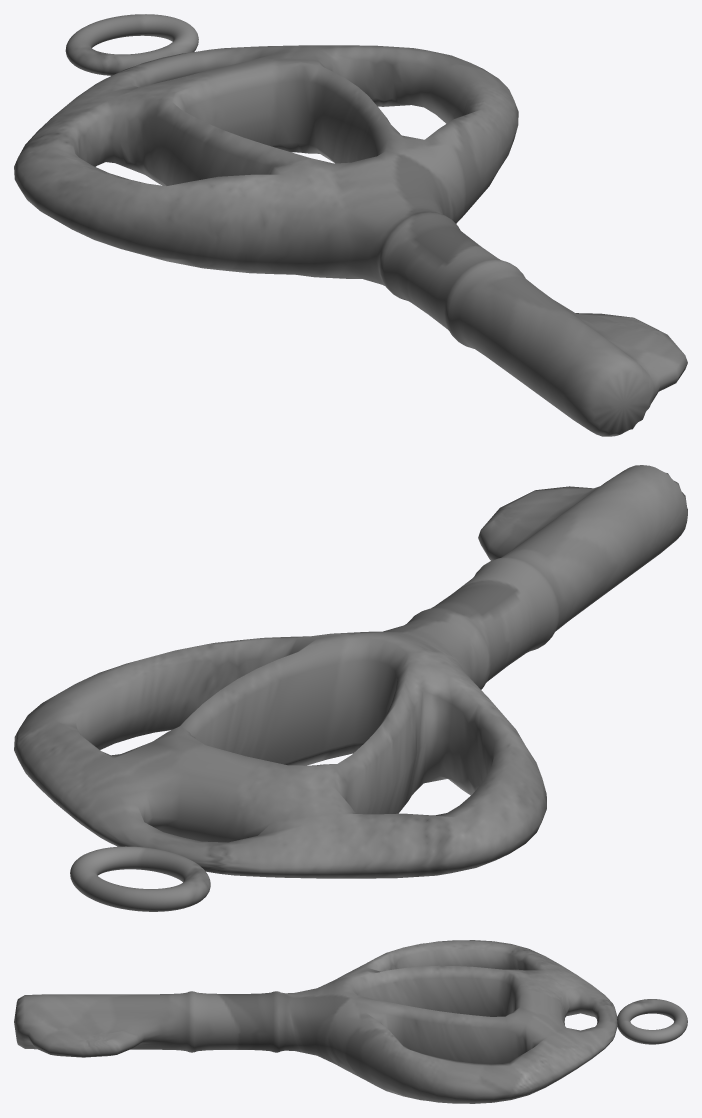
File: Key.fbx
3 renders of one model, top to bottom at view 1: azimuth 30°, elevation 25°; view 2: azimuth 150°, elevation 25°; view 3: azimuth 270°, elevation 25°, orthographic. The views are drawn at different scales.
Visible parts, largest first — view 1: Torus.002; view 2: Torus.002; view 3: Torus.002.
Part boxes in pixels (x1,y1,x2,y2): Torus.002: (14,14,687,436); Torus.002: (14,465,687,911); Torus.002: (14,940,687,1103).
Size of the model in its own units: 52.18 by 11.84 by 100.
Materials: 1 (1 with a texture image).
